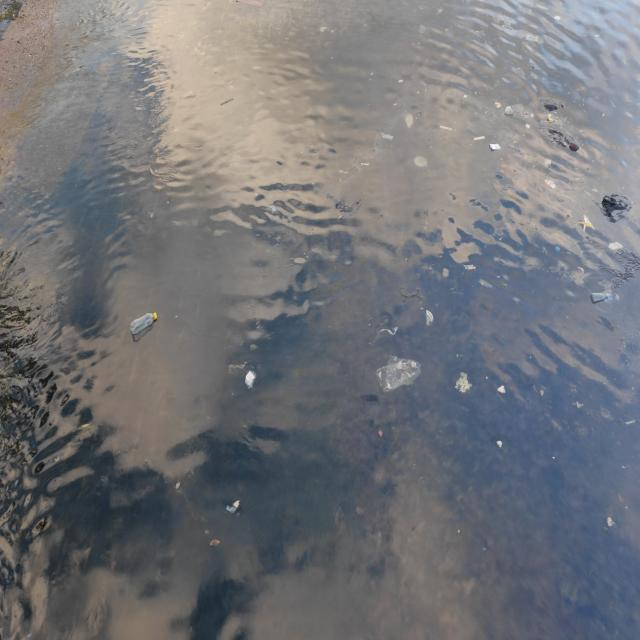Bottle cap: (554, 245, 561, 253), (463, 94, 468, 99)
Plastic: (454, 370, 473, 395), (495, 16, 514, 33), (244, 368, 258, 390), (379, 325, 399, 337), (266, 201, 279, 215), (225, 502, 239, 514), (381, 131, 394, 142), (220, 95, 233, 106), (496, 382, 507, 394), (462, 263, 477, 271), (525, 34, 539, 42), (495, 439, 504, 449), (543, 158, 552, 167), (338, 168, 349, 175), (319, 25, 328, 33), (553, 14, 561, 21), (495, 100, 501, 108), (524, 123, 530, 130), (530, 113, 534, 118)
Plastic bag: (374, 352, 423, 396), (592, 248, 640, 290), (595, 192, 633, 224), (538, 126, 580, 152), (503, 103, 530, 122), (538, 95, 566, 113), (539, 112, 567, 128), (608, 242, 623, 252), (417, 22, 427, 35)
Plastic bottle: (129, 311, 159, 336), (589, 290, 621, 306)
Plastic cup: (425, 307, 434, 328)
Plastic packaging: (577, 213, 596, 234), (543, 176, 557, 189), (489, 143, 502, 151), (360, 160, 370, 167)
Undefined trash: (404, 111, 415, 130), (413, 156, 428, 168)
Wood: (236, 0, 266, 8)
